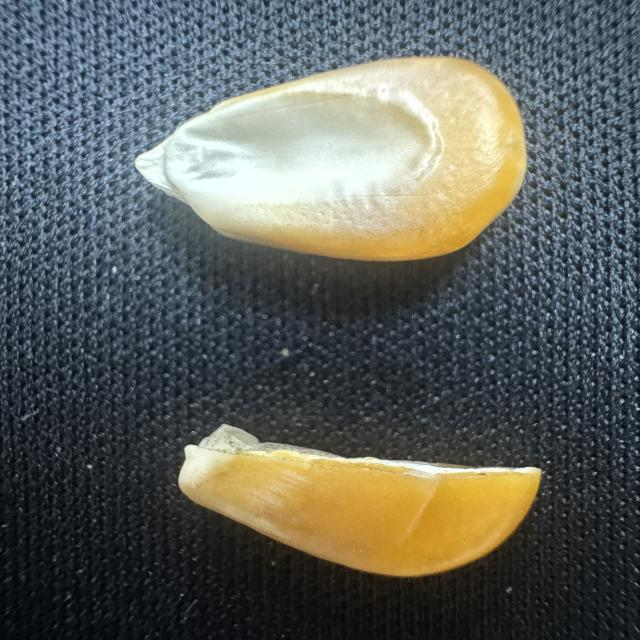Bad-Seed: (166, 419, 552, 588)
Good-Seed: (123, 43, 536, 267)
